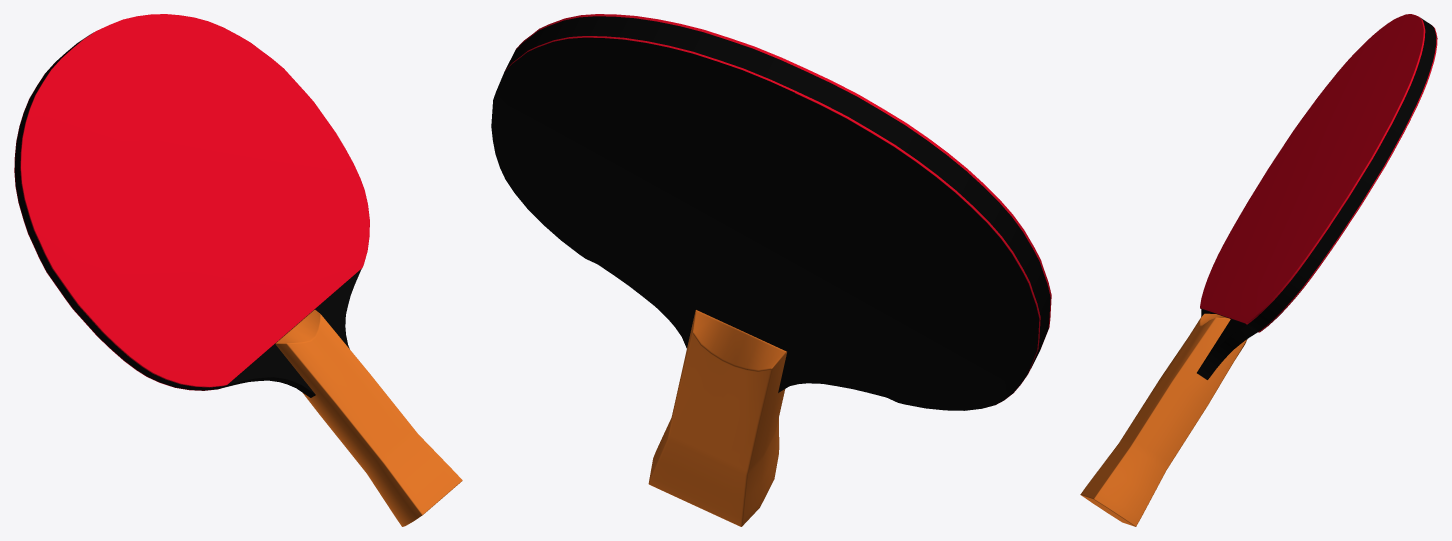
The model's file is PingPong.glb.
3 renders of one model, left to right at view 1: azimuth 30°, elevation 25°; view 2: azimuth 150°, elevation 25°; view 3: azimuth 270°, elevation 25°, orthographic. The views are drawn at different scales.
Parts seen in each view (by area): view 1: Cylinder; view 2: Cylinder; view 3: Cylinder.
Part boxes in pixels (box(x1,y1,x2,y2)): Cylinder: box(14, 14, 462, 526); Cylinder: box(491, 14, 1051, 526); Cylinder: box(1080, 14, 1437, 526).
Bounding box in the file's own units: 1.75 × 2.23 × 1.68.
